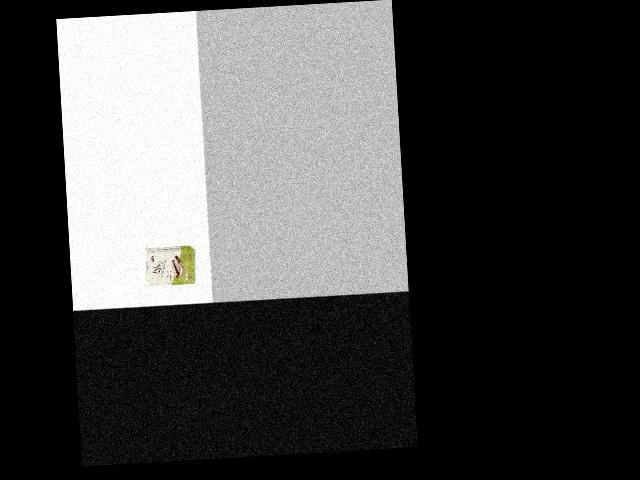chocolate: (144, 242, 198, 287)
